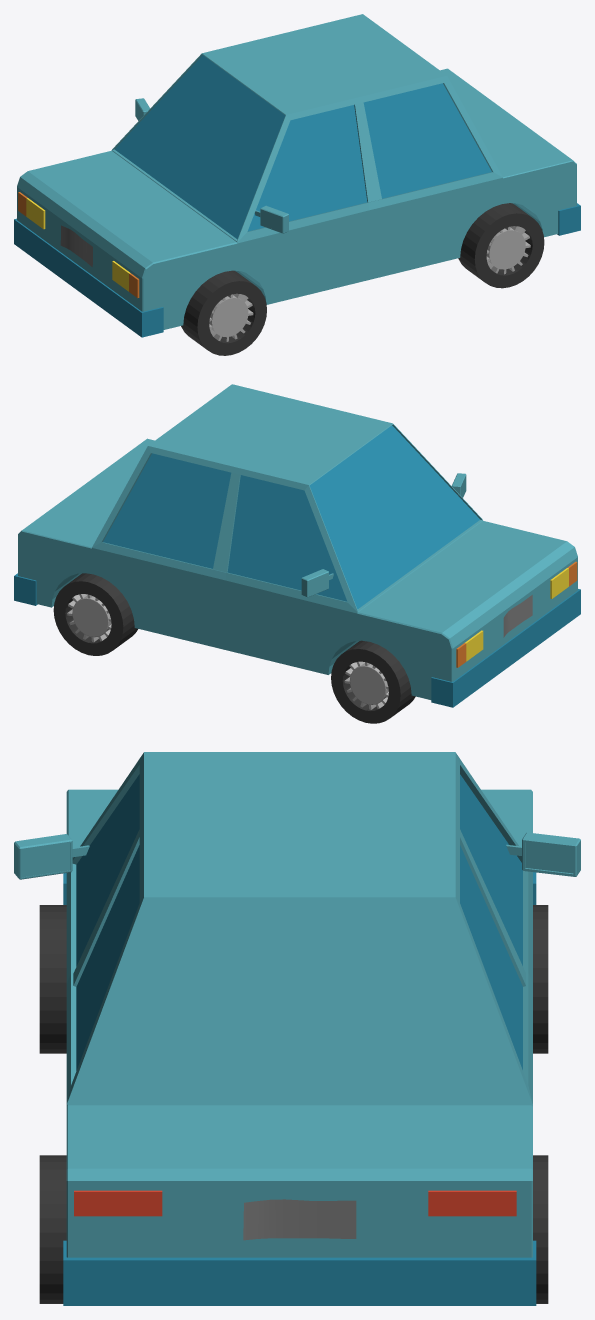
The model's file is Car One.fbx.
3 renders of one model, top to bottom at view 1: azimuth 30°, elevation 25°; view 2: azimuth 150°, elevation 25°; view 3: azimuth 270°, elevation 25°, orthographic. The views are drawn at different scales.
Visible parts, largest first — view 1: Car Body, Bumper, Tire.003, Tire.002, Spoke.003, Spoke.002, License Plate Front.001, Mirror Left.001, Back Bumper, Front Light.001, Light Front.001; view 2: Car Body, Bumper, Tire.001, Tire, Spoke, Spoke.001, Mirror Right.001, License Plate Front.001, Back Bumper, Front Light.001, Light Front.001; view 3: Car Body, Back Bumper, Plane, Tire.002, Tire.003, Mirror Left.001, Mirror Right.001, Back Light.002, Back Light.003, Tire, Tire.001.
Part boxes in pixels (x1=…): Car Body: x1=17, y1=14, x2=576, y2=329; Bumper: x1=14, y1=218, x2=163, y2=337; Tire.003: x1=458, y1=203, x2=544, y2=288; Tire.002: x1=181, y1=270, x2=266, y2=355; Spoke.003: x1=486, y1=226, x2=530, y2=274; Spoke.002: x1=209, y1=293, x2=253, y2=341; License Plate Front.001: x1=60, y1=225, x2=92, y2=266; Mirror Left.001: x1=254, y1=205, x2=288, y2=233; Back Bumper: x1=557, y1=203, x2=580, y2=235; Front Light.001: x1=112, y1=261, x2=139, y2=298; Light Front.001: x1=18, y1=192, x2=45, y2=229; Car Body: x1=18, y1=384, x2=577, y2=699; Bumper: x1=431, y1=589, x2=580, y2=707; Tire.001: x1=53, y1=573, x2=137, y2=655; Tire: x1=331, y1=640, x2=415, y2=723; Spoke: x1=344, y1=661, x2=388, y2=709; Spoke.001: x1=67, y1=594, x2=111, y2=642; Mirror Right.001: x1=301, y1=569, x2=333, y2=597; License Plate Front.001: x1=503, y1=595, x2=532, y2=637; Back Bumper: x1=14, y1=573, x2=37, y2=605; Front Light.001: x1=550, y1=561, x2=577, y2=598; Light Front.001: x1=456, y1=630, x2=483, y2=667; Car Body: x1=66, y1=752, x2=532, y2=1257; Back Bumper: x1=63, y1=1240, x2=536, y2=1305; Plane: x1=243, y1=1199, x2=356, y2=1240; Tire.002: x1=39, y1=905, x2=66, y2=1053; Tire.003: x1=39, y1=1155, x2=66, y2=1303; Mirror Left.001: x1=14, y1=834, x2=89, y2=879; Mirror Right.001: x1=506, y1=832, x2=580, y2=876; Back Light.002: x1=428, y1=1190, x2=516, y2=1216; Back Light.003: x1=74, y1=1190, x2=162, y2=1216; Tire: x1=533, y1=905, x2=548, y2=1053; Tire.001: x1=533, y1=1155, x2=548, y2=1303.
Bounding box in the file's own units: 357 × 154 × 215.
